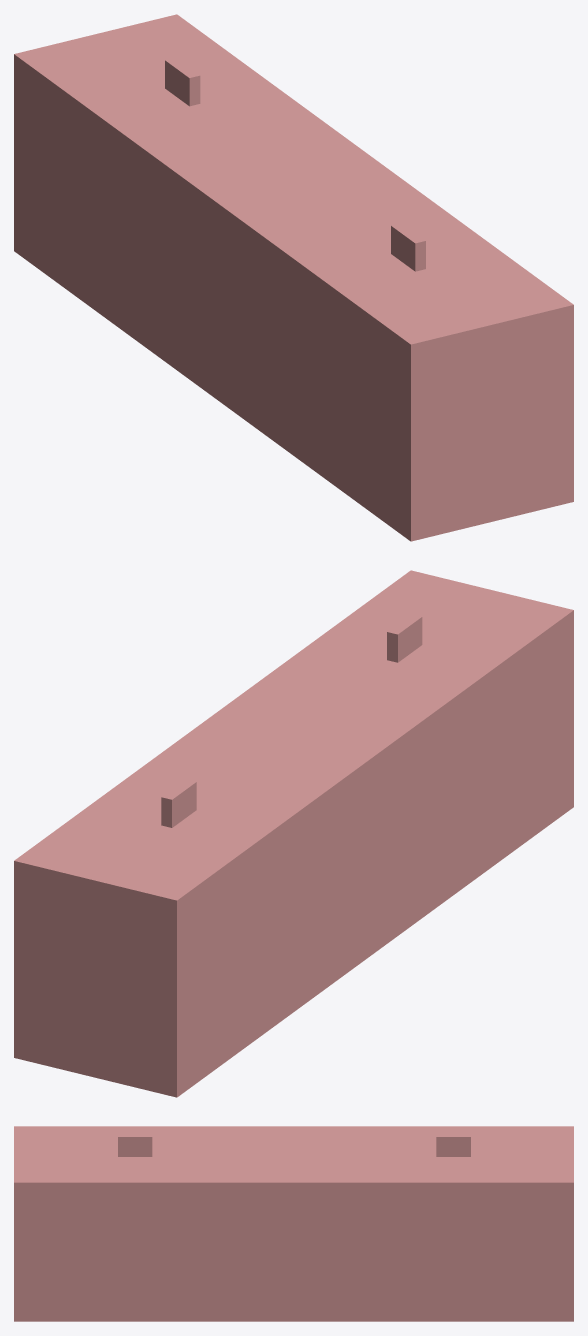
The model's file is ConcreteBarrier_C_B_COL.fbx.
3 views of the same model, one above another, from view 1: azimuth 30°, elevation 25°; view 2: azimuth 150°, elevation 25°; view 3: azimuth 270°, elevation 25° (orthographic). The views are drawn at different scales.
Visible parts, largest first — view 1: ConcreteBarrier_C_B_COL; view 2: ConcreteBarrier_C_B_COL; view 3: ConcreteBarrier_C_B_COL.
Boxes of the visible parts, x1,y1,x2,y2 form: ConcreteBarrier_C_B_COL: (14,14,573,541); ConcreteBarrier_C_B_COL: (14,570,573,1097); ConcreteBarrier_C_B_COL: (14,1126,573,1321).
Size of the model in its own units: 71.77 by 94.72 by 302.
